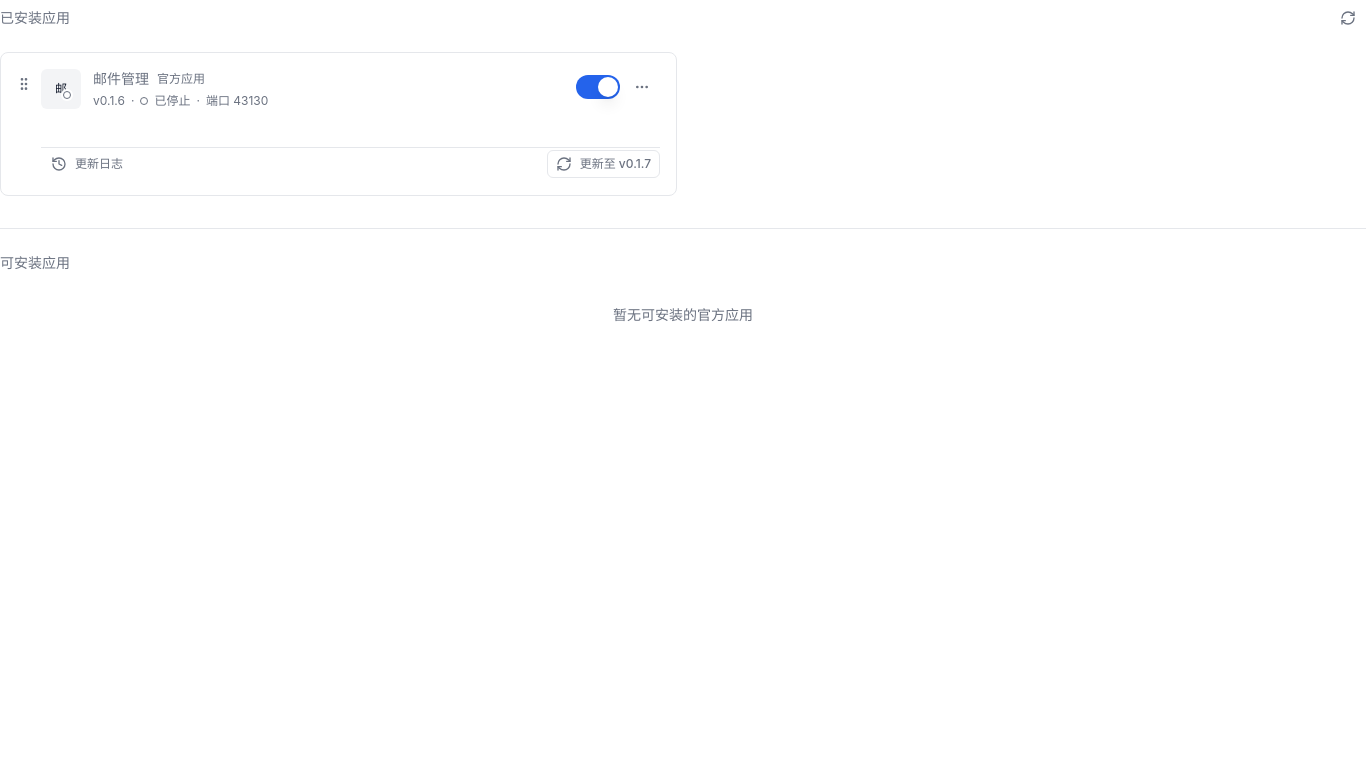
Test case: AppManagementPage › 官方应用卡片底部显示更新日志和更新入口
Expected: the button with aria-label "更新 邮件管理 到 v0.1.7" is shown, [547,150,660,178]
Click the button "更新日志" at (87, 164), box [45,150,129,178]
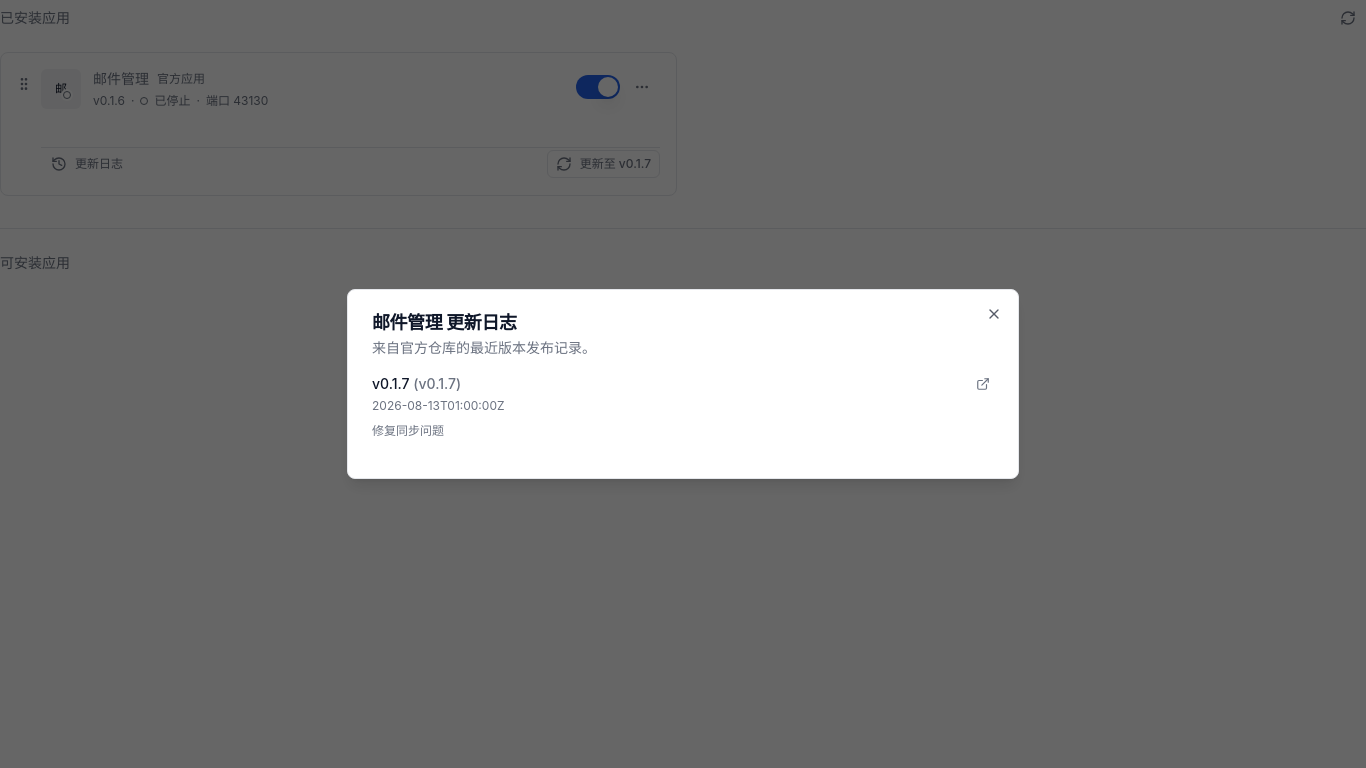
Expected: the text "修复同步问题" is shown, [372,425,444,439]
